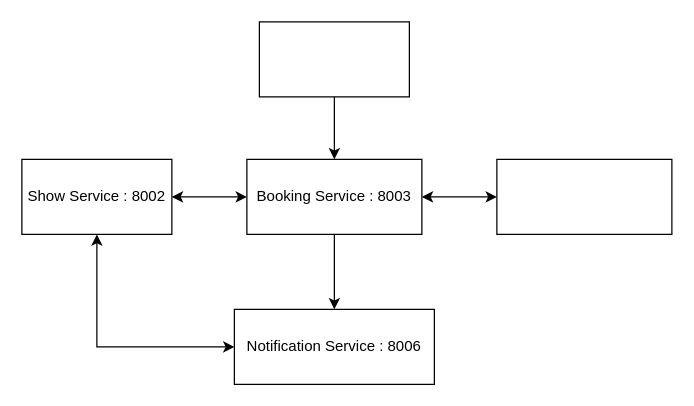
This 694x406 diagram has some shape labels left out. Each missing label, with the centre of its shape:
"Payment Service : 8004" belongs at (x=584, y=196).
"User Service : 8001" belongs at (x=333, y=59).
